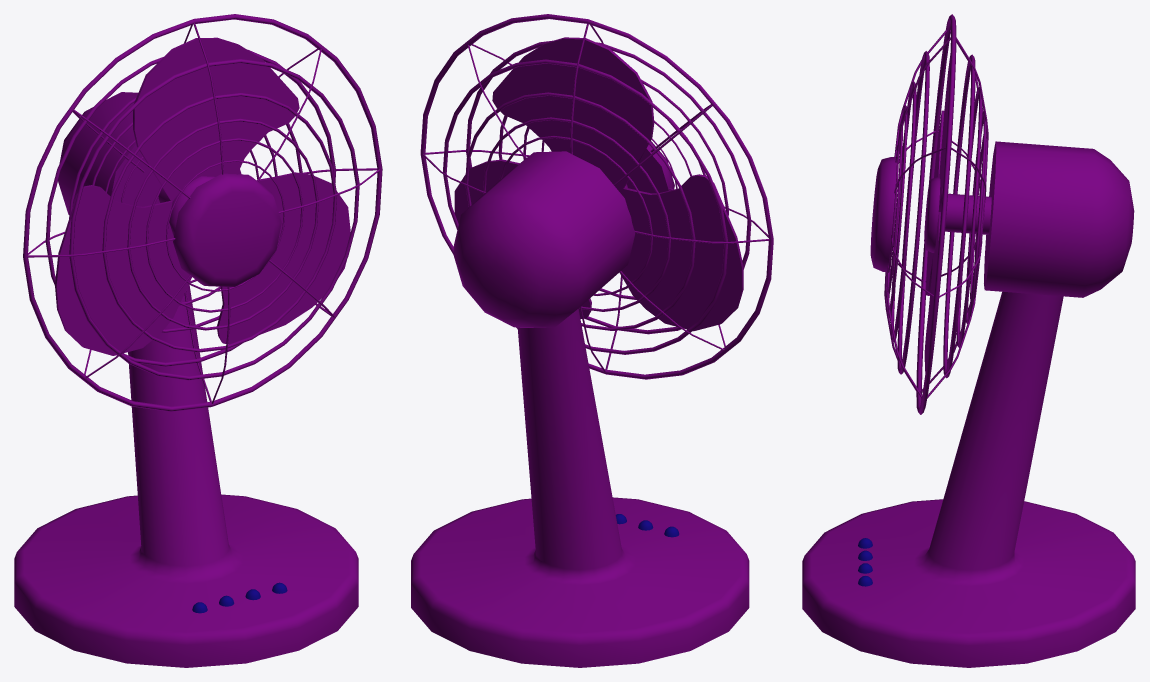
Rendered from SM_Fan.fbx.
The picture shows the model from 3 angles, left to right: view 1: azimuth 30°, elevation 25°; view 2: azimuth 150°, elevation 25°; view 3: azimuth 270°, elevation 25°; orthographic projection. The views are drawn at different scales.
Visible parts, largest first — view 1: SM_Fan; view 2: SM_Fan; view 3: SM_Fan.
Boxes of the visible parts, bbox=[...] form: SM_Fan: bbox=[14, 14, 382, 667]; SM_Fan: bbox=[411, 14, 773, 667]; SM_Fan: bbox=[802, 14, 1135, 667].
Bounding box in the file's own units: 47.89 × 73.94 × 39.69.
